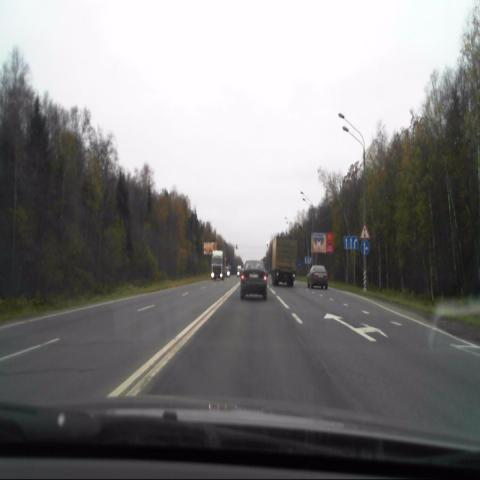1_8: (360, 223, 370, 239)
4_1_4: (360, 240, 370, 255)
5_15_1: (344, 236, 358, 249)
